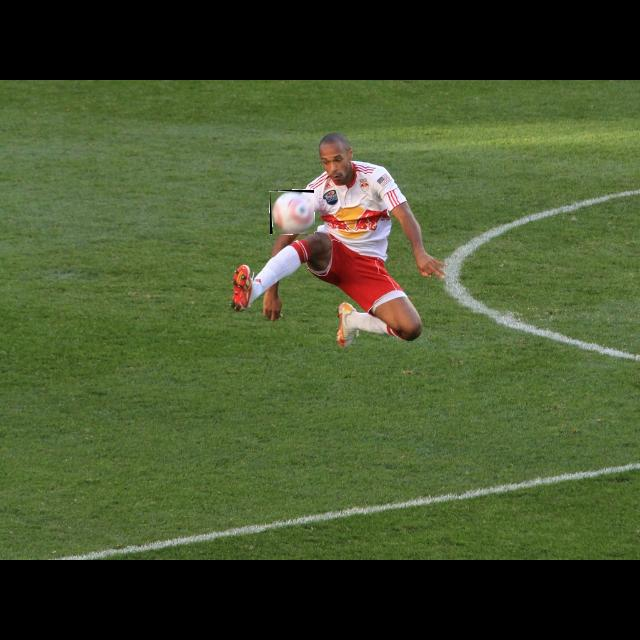Football: (270, 190, 314, 234)
